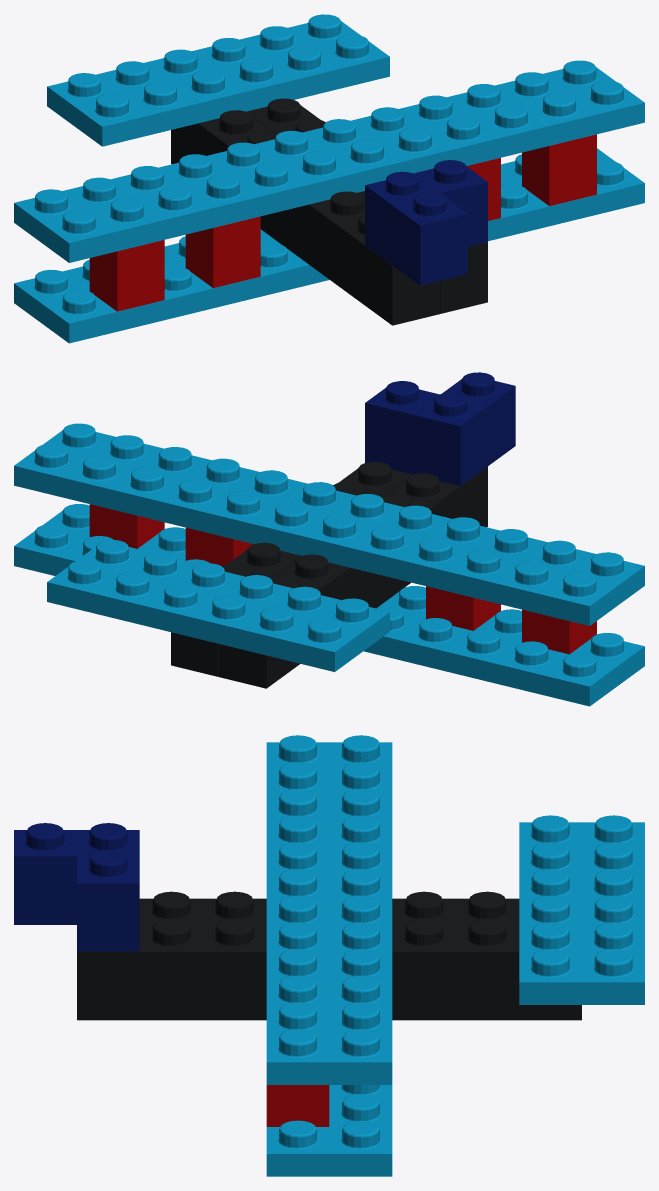
Rendered from gift.obj.
3 views of the same model, one above another, from view 1: azimuth 30°, elevation 25°; view 2: azimuth 150°, elevation 25°; view 3: azimuth 270°, elevation 25° (orthographic). The views are drawn at different scales.
Visible parts, largest first — view 1: Part.2, Part.10, Part.3, Part.9, Part.1, Part.4, Part.5, Part.6, Part.8, Part.7; view 2: Part.2, Part.10, Part.3, Part.1, Part.9, Part.8, Part.4, Part.5, Part.6, Part.7; view 3: Part.2, Part.8, Part.10, Part.1, Part.3, Part.9, Part.6.
Boxes of the visible parts, <box> form: Part.2: <box>14,60,644,262</box>; Part.10: <box>47,14,389,146</box>; Part.3: <box>14,148,644,343</box>; Part.9: <box>171,110,439,325</box>; Part.1: <box>365,160,487,285</box>; Part.4: <box>89,240,164,311</box>; Part.5: <box>185,216,260,288</box>; Part.6: <box>522,134,596,205</box>; Part.8: <box>246,98,487,313</box>; Part.7: <box>466,158,500,220</box>; Part.2: <box>14,423,644,625</box>; Part.10: <box>47,540,389,671</box>; Part.3: <box>14,504,644,706</box>; Part.1: <box>365,372,515,486</box>; Part.9: <box>219,466,487,688</box>; Part.8: <box>171,461,412,676</box>; Part.4: <box>522,609,596,654</box>; Part.5: <box>426,586,500,630</box>; Part.6: <box>89,504,164,548</box>; Part.7: <box>185,527,253,566</box>; Part.2: <box>266,735,392,1084</box>; Part.8: <box>77,918,581,1020</box>; Part.10: <box>519,815,644,1004</box>; Part.1: <box>14,823,139,951</box>; Part.3: <box>266,1085,392,1176</box>; Part.9: <box>139,891,519,925</box>; Part.6: <box>266,1085,329,1126</box>.
Size of the model in its own units: 95.92 by 24.18 by 79.92.
